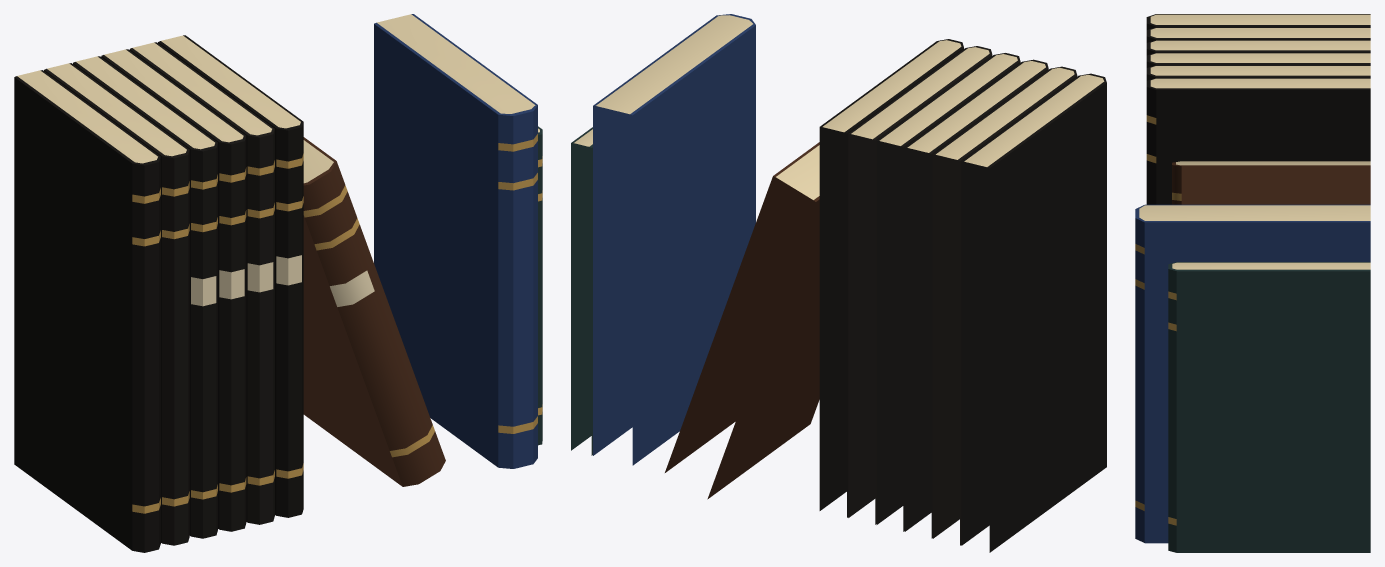
Rendered from bookrow_tall_6.glb.
3 renders of one model, left to right at view 1: azimuth 30°, elevation 25°; view 2: azimuth 150°, elevation 25°; view 3: azimuth 270°, elevation 25°, orthographic. The views are drawn at different scales.
Visible parts, largest first — view 1: bookrow_tall_6; view 2: bookrow_tall_6; view 3: bookrow_tall_6.
Part boxes in pixels (bbox=[...]): bookrow_tall_6: bbox=[14, 14, 542, 552]; bookrow_tall_6: bbox=[571, 14, 1106, 552]; bookrow_tall_6: bbox=[1135, 14, 1370, 552].
Bounding box in the file's own units: 0.4835 × 0.4423 × 0.2573.
